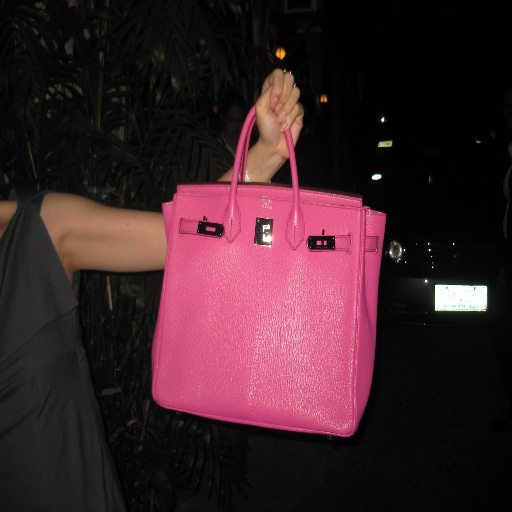hand: (237, 53, 304, 190)
